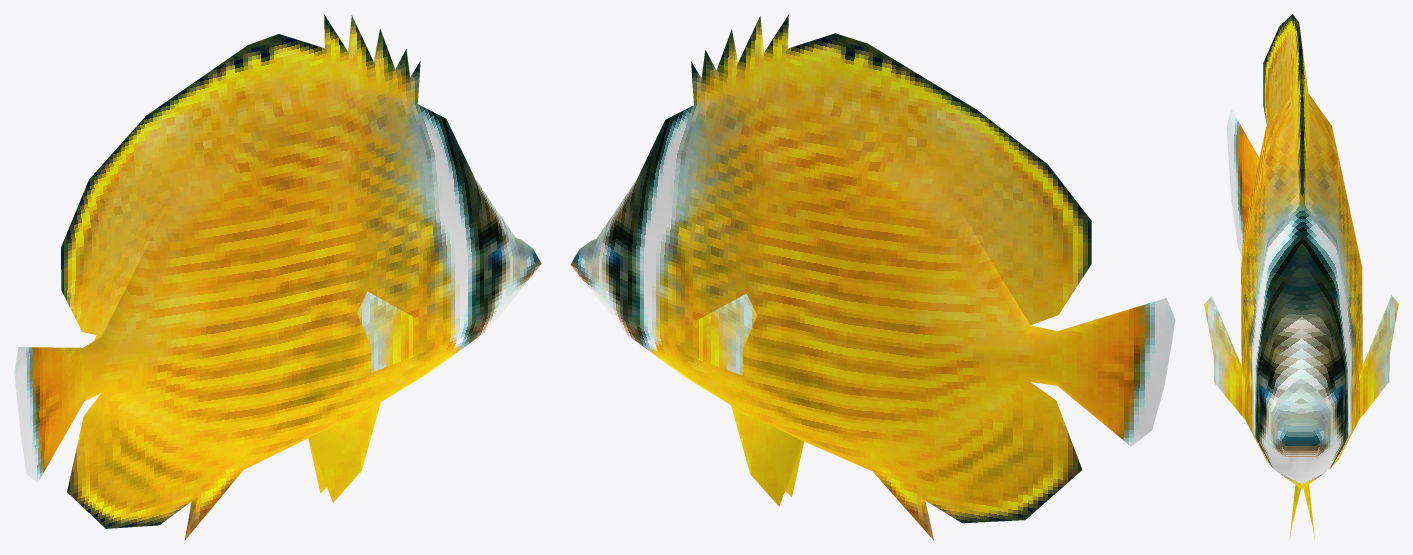
Rendered from ps2_save-icons_everblue.glb.
3 renders of one model, left to right at view 1: azimuth 30°, elevation 25°; view 2: azimuth 150°, elevation 25°; view 3: azimuth 270°, elevation 25°, orthographic.
Visible parts, largest first — view 1: Normal.ico; view 2: Normal.ico; view 3: Normal.ico.
Part boxes in pixels (x1,y1,x2,y2): Normal.ico: [14, 14, 541, 540]; Normal.ico: [570, 14, 1175, 540]; Normal.ico: [1204, 14, 1398, 539].
Bounding box in the file's own units: 3.78 × 3.19 × 1.14.
1 material, 1 textured.
